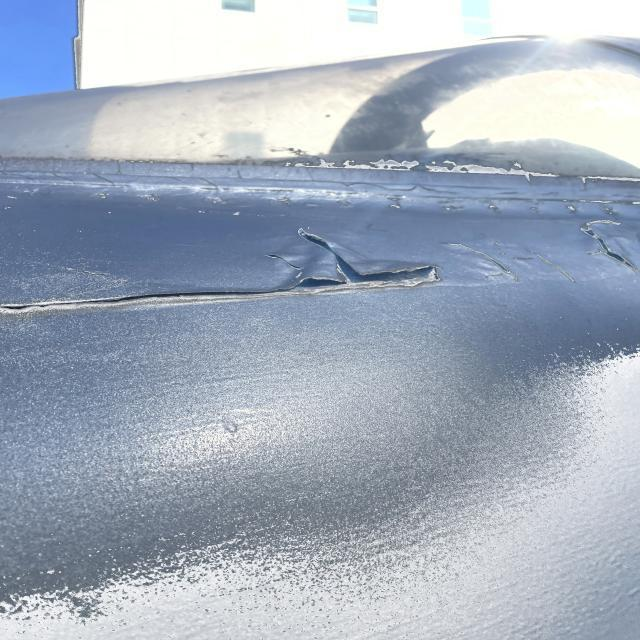crack: (453, 238, 576, 288), (264, 256, 314, 278), (71, 270, 123, 286)
